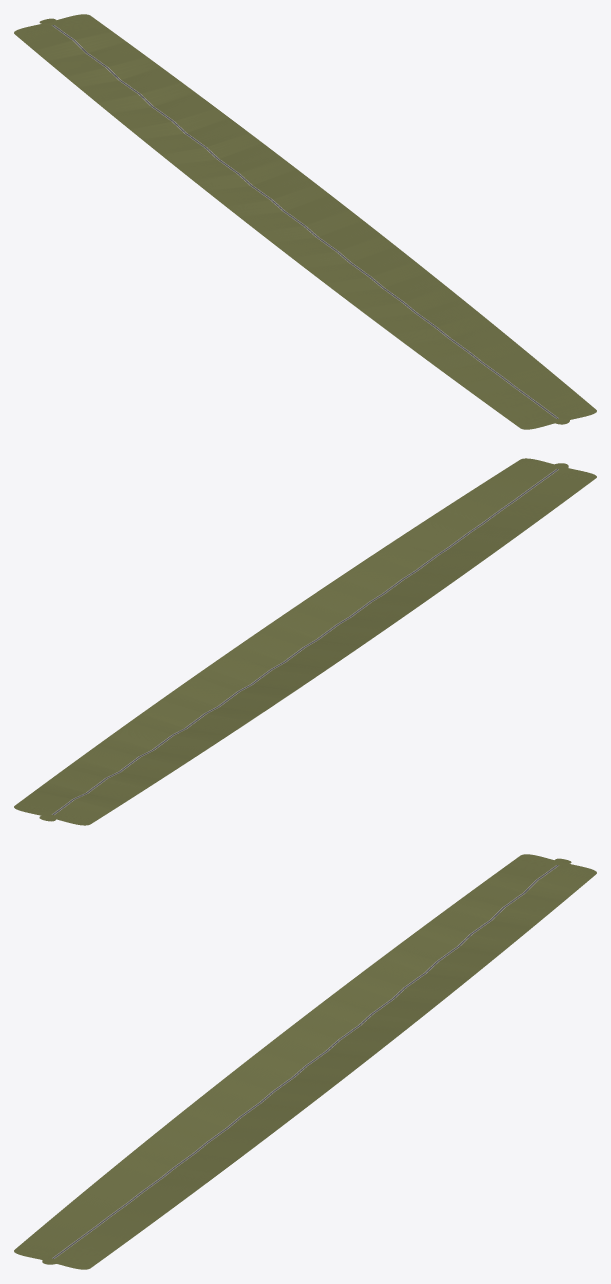
Rendered from Stairstepper_1_0_1.fbx.
3 renders of one model, top to bottom at view 1: azimuth 30°, elevation 25°; view 2: azimuth 150°, elevation 25°; view 3: azimuth 330°, elevation 25°, orthographic.
Visible parts, largest first — view 1: Terrain_Ground_Layer0Node, Roads_Road_Layer0Node, Roads_Sidewalk_Layer0Node; view 2: Terrain_Ground_Layer0Node, Roads_Road_Layer0Node, Roads_Sidewalk_Layer0Node; view 3: Terrain_Ground_Layer0Node, Roads_Road_Layer0Node, Roads_Sidewalk_Layer0Node.
Boxes of the visible parts, x1,y1,x2,y2 form: Terrain_Ground_Layer0Node: (14, 14, 596, 429); Roads_Road_Layer0Node: (52, 25, 558, 418); Roads_Sidewalk_Layer0Node: (52, 25, 558, 418); Terrain_Ground_Layer0Node: (14, 458, 596, 825); Roads_Road_Layer0Node: (52, 469, 558, 814); Roads_Sidewalk_Layer0Node: (52, 469, 558, 814); Terrain_Ground_Layer0Node: (14, 854, 596, 1269); Roads_Road_Layer0Node: (52, 865, 558, 1258); Roads_Sidewalk_Layer0Node: (52, 865, 558, 1258).
Bounding box in the file's own units: 480 × 4738 × 123.
Materials: 6 (6 with a texture image).
